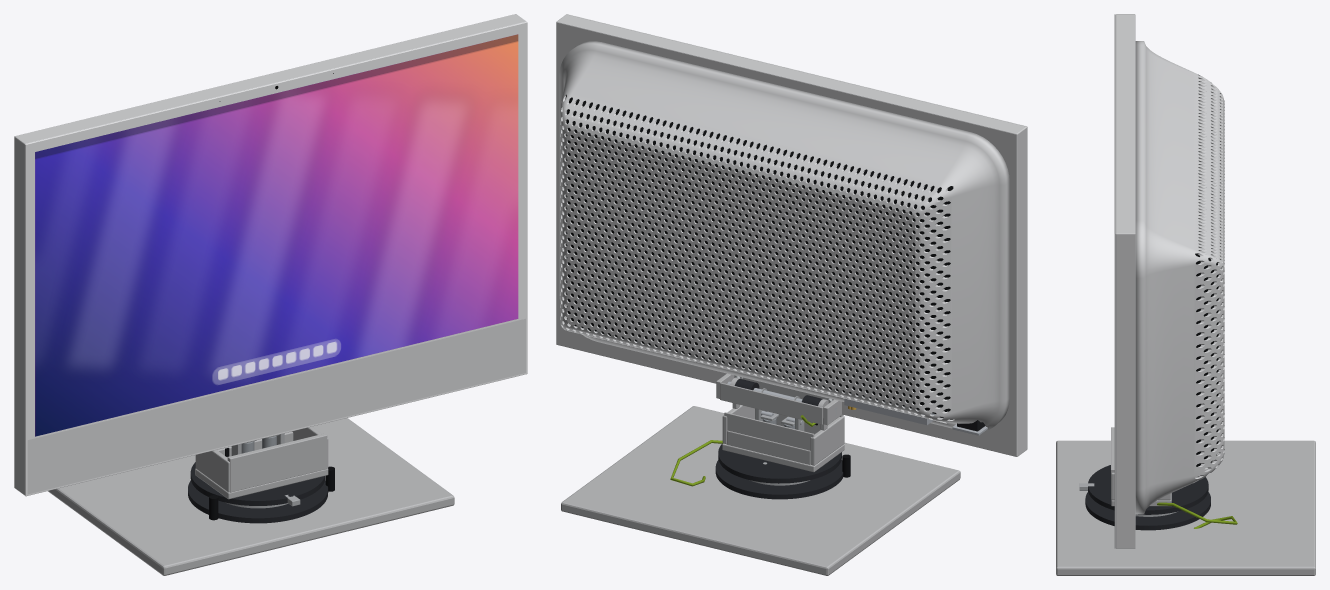
The model's file is imac_pc.v010__2026-11-06_432b08c.glb.
3 renders of one model, left to right at view 1: azimuth 30°, elevation 25°; view 2: azimuth 150°, elevation 25°; view 3: azimuth 270°, elevation 25°, orthographic. The views are drawn at different scales.
Visible parts, largest first — view 1: display, chin_print, stand_foot, front_glass, slab, stand_neck_cover1, stand_swivel_stator, stand_swivel_rotor, stand_arm0, stand_neck_base; view 2: cover_back, stand_foot, cover_filter, slab, stand_swivel_rotor, stand_swivel_stator, hinge_cover, stand_neck_cover0, stand_neck_tie, stand_arm0, front_glass, stand_neck_base (+1 smaller); view 3: cover_back, stand_foot, slab, stand_swivel_rotor, stand_swivel_stator, front_glass, cover_filter, pe_braid_swivel.
Part boxes in pixels (box(x1,y1,x2,y2)): display: box(35, 34, 518, 436); chin_print: box(27, 318, 525, 494); stand_foot: box(48, 418, 454, 575); front_glass: box(25, 22, 527, 496); slab: box(14, 14, 526, 495); stand_neck_cover1: box(227, 433, 327, 492); stand_swivel_stator: box(188, 480, 328, 523); stand_swivel_rotor: box(190, 462, 325, 505); stand_arm0: box(195, 450, 229, 492); stand_neck_base: box(195, 468, 328, 499); cover_back: box(559, 41, 1009, 430); stand_foot: box(561, 406, 960, 575); cover_filter: box(566, 95, 953, 419); slab: box(556, 14, 1026, 456); stand_swivel_rotor: box(718, 444, 841, 483); stand_swivel_stator: box(715, 460, 843, 499); hinge_cover: box(720, 382, 822, 424); stand_neck_cover0: box(724, 412, 814, 450); stand_neck_tie: box(727, 430, 810, 464); stand_arm0: box(810, 416, 844, 465); front_glass: box(566, 14, 1027, 449); stand_neck_base: box(722, 443, 844, 472); cover_back: box(1135, 41, 1224, 514); stand_foot: box(1056, 440, 1315, 575); slab: box(1115, 14, 1135, 548); stand_swivel_rotor: box(1088, 465, 1208, 514); stand_swivel_stator: box(1085, 492, 1210, 530); front_glass: box(1114, 14, 1115, 548); cover_filter: box(1195, 253, 1218, 466); pe_braid_swivel: box(1157, 502, 1237, 528).
Size of the model in its own units: 620 by 515 by 310.
64 materials, 4 textured.
